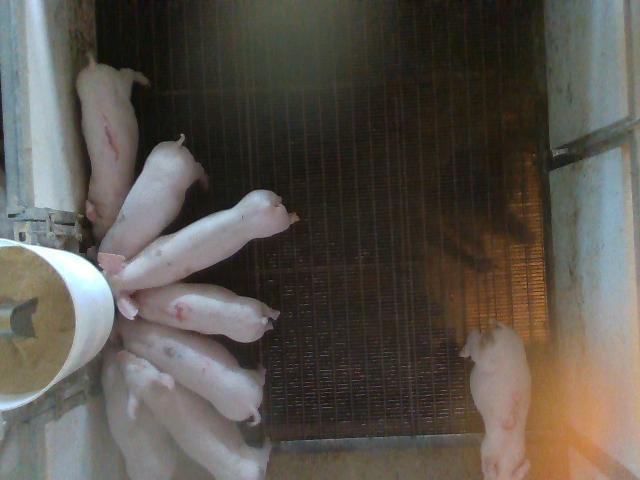pig-1: (76, 55, 149, 243)
pig-3: (461, 324, 531, 478)
pig-4: (132, 282, 280, 342)
